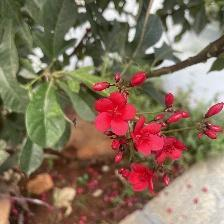jatropha: (92, 92, 137, 137), (131, 118, 165, 155), (126, 161, 160, 197), (153, 137, 188, 164)
